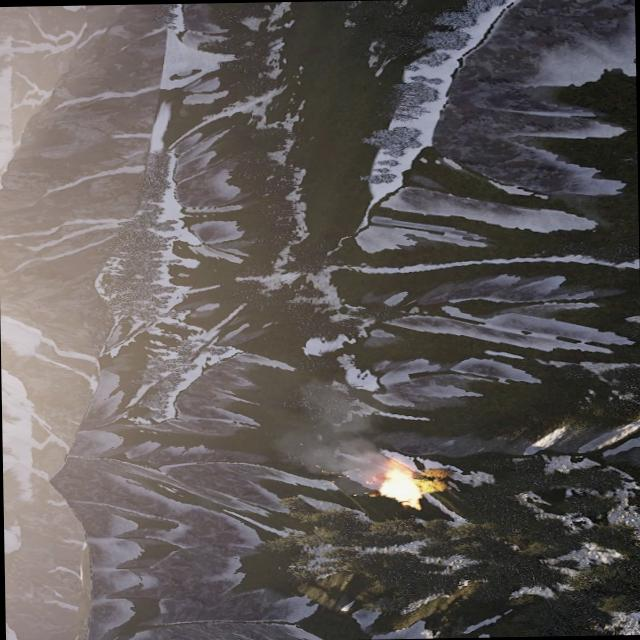fire: (375, 462, 423, 508)
smoke: (260, 387, 382, 492)
